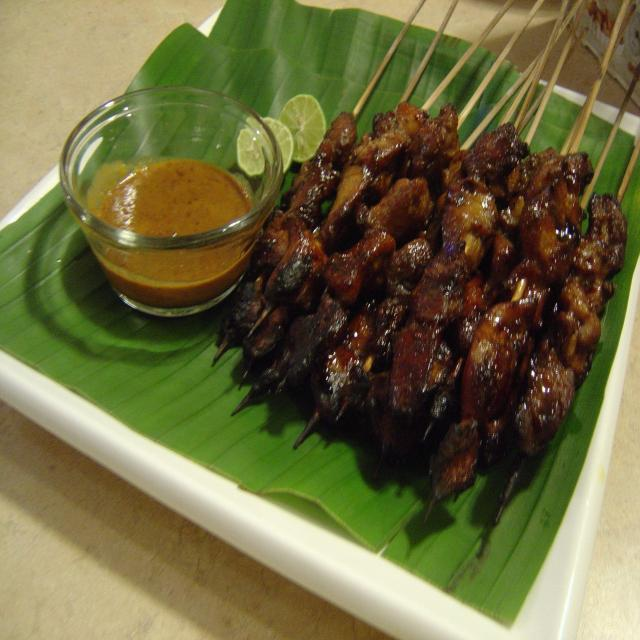Sate: (234, 3, 640, 577)
